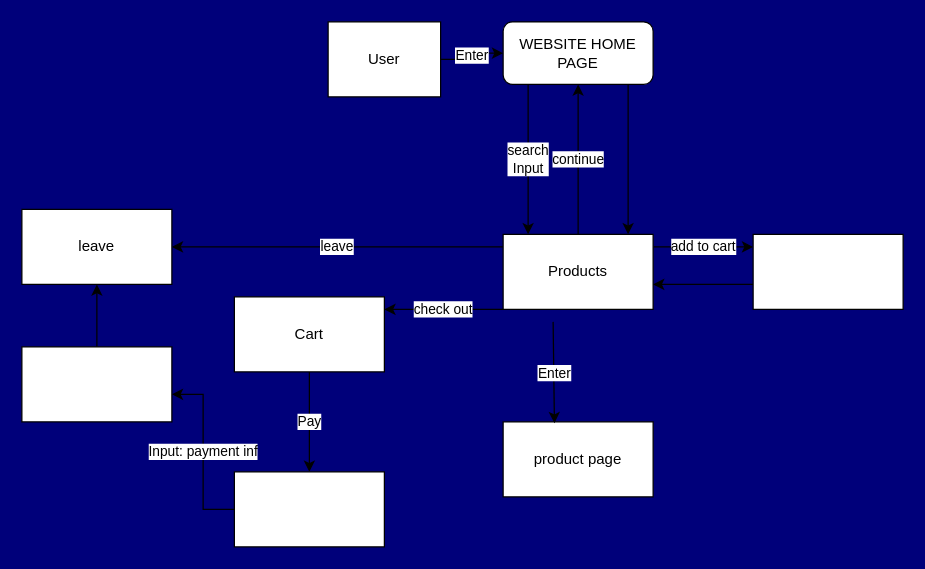
Image size: 925x569. Some labels were removed from this diagram. Here are the shapes that lost their labels. From the top down, the centre of each, then its label:
At point 827,271: "cart comfirm".
At point 96,384: "payment confirmation".
At point 308,509: "Payment Screen".
